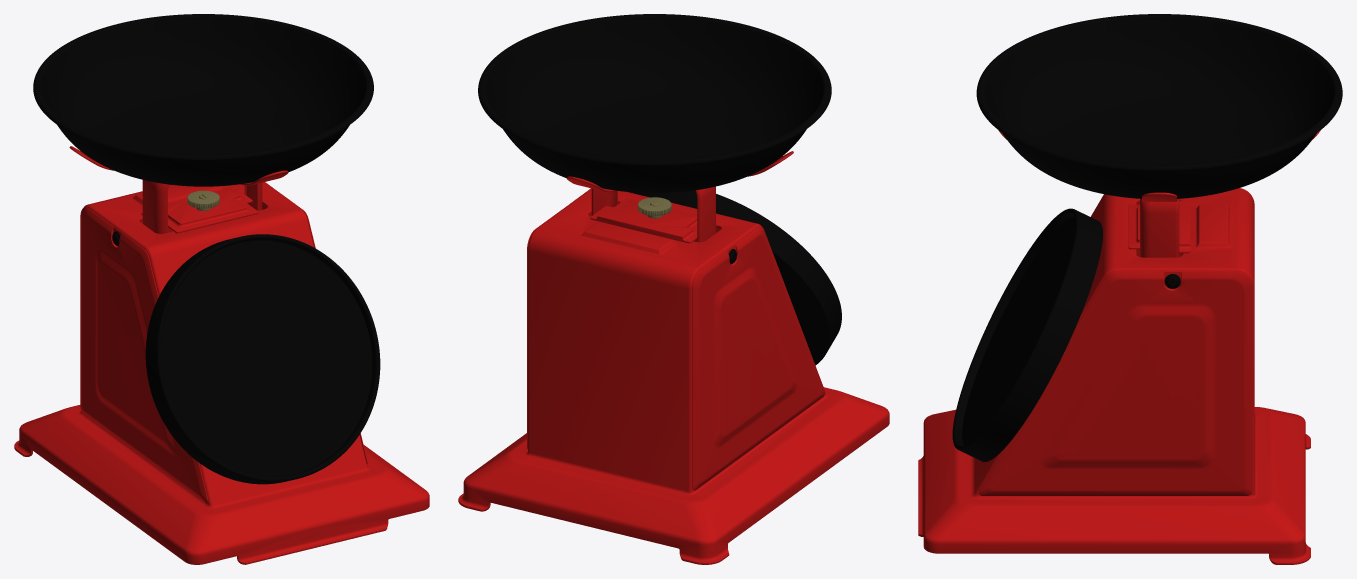
File: can.fbx
3 views of the same model, side by side, from view 1: azimuth 30°, elevation 25°; view 2: azimuth 150°, elevation 25°; view 3: azimuth 270°, elevation 25° (orthographic). The views are drawn at different scales.
Parts seen in each view (by area): view 1: Bowl, Glass, Main_Body, Side_Panel, Outer, Cube, Base_2; view 2: Main_Body, Bowl, Side_Panel, Outer, Cube, Base_2; view 3: Bowl, Side_Panel, Main_Body, Outer, Glass, Base_2, Cube.
Part boxes in pixels (x1,y1,x2,y2): Bowl: (33, 14, 373, 186); Glass: (161, 240, 372, 476); Main_Body: (14, 182, 429, 564); Side_Panel: (80, 182, 367, 503); Outer: (145, 234, 380, 484); Cube: (141, 187, 258, 233); Base_2: (142, 180, 262, 233); Main_Body: (458, 189, 889, 564); Bowl: (478, 14, 831, 193); Side_Panel: (527, 188, 825, 490); Outer: (628, 190, 841, 365); Cube: (590, 198, 697, 243); Base_2: (591, 186, 715, 242); Bowl: (976, 14, 1342, 198); Side_Panel: (978, 271, 1252, 495); Main_Body: (918, 188, 1310, 564); Outer: (952, 208, 1102, 461); Glass: (962, 217, 1075, 445); Base_2: (1140, 199, 1179, 257); Cube: (1128, 200, 1190, 253).
Size of the model in its own units: 27.56 by 33.98 by 31.95.
